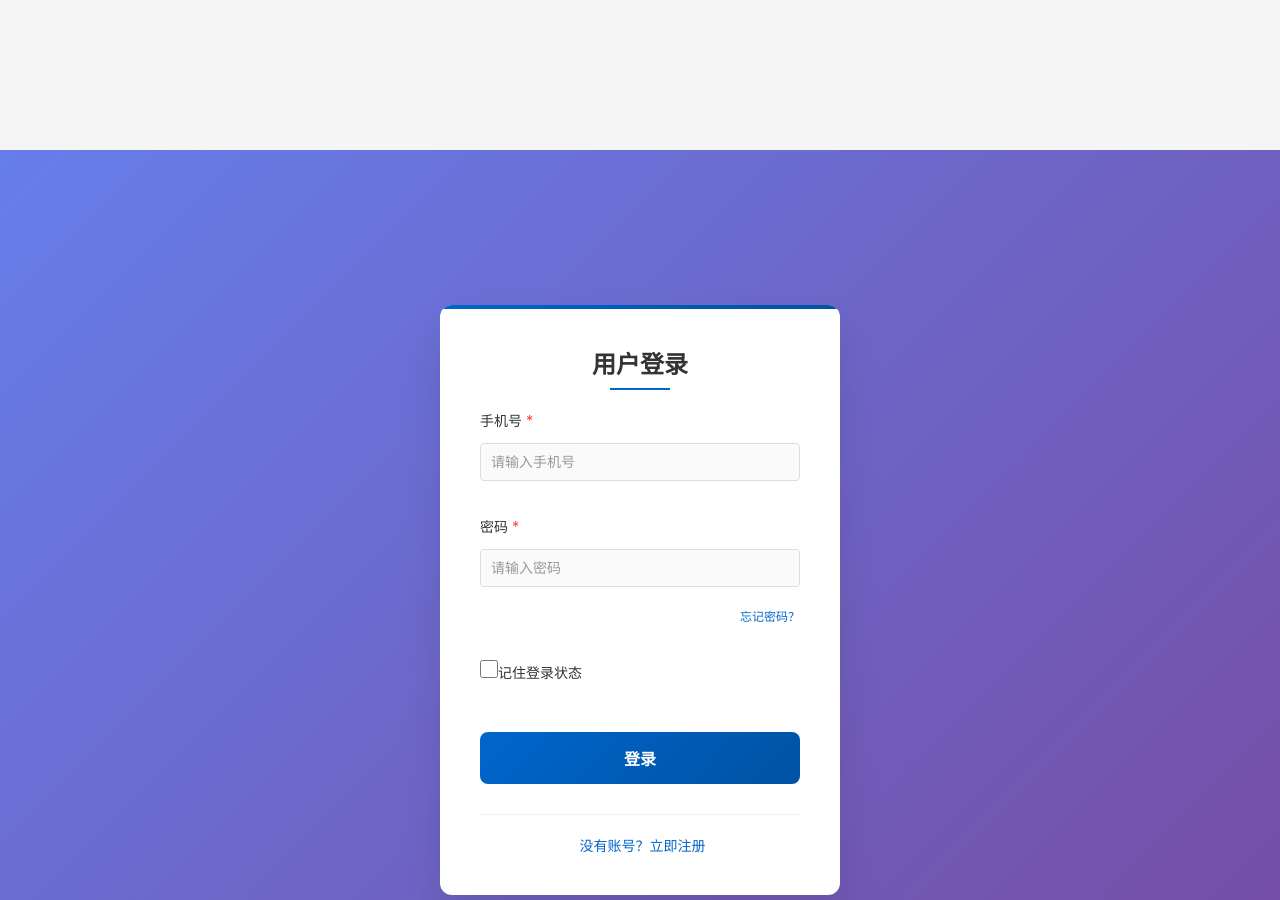
Test: LoginPage Component › 应该验证密码不能为空
# 只输入手机号，不输入密码
Type "13800138000" into the field labelled "手机号".
click(640, 462); type("13800138000")  # box [480,443,800,481]
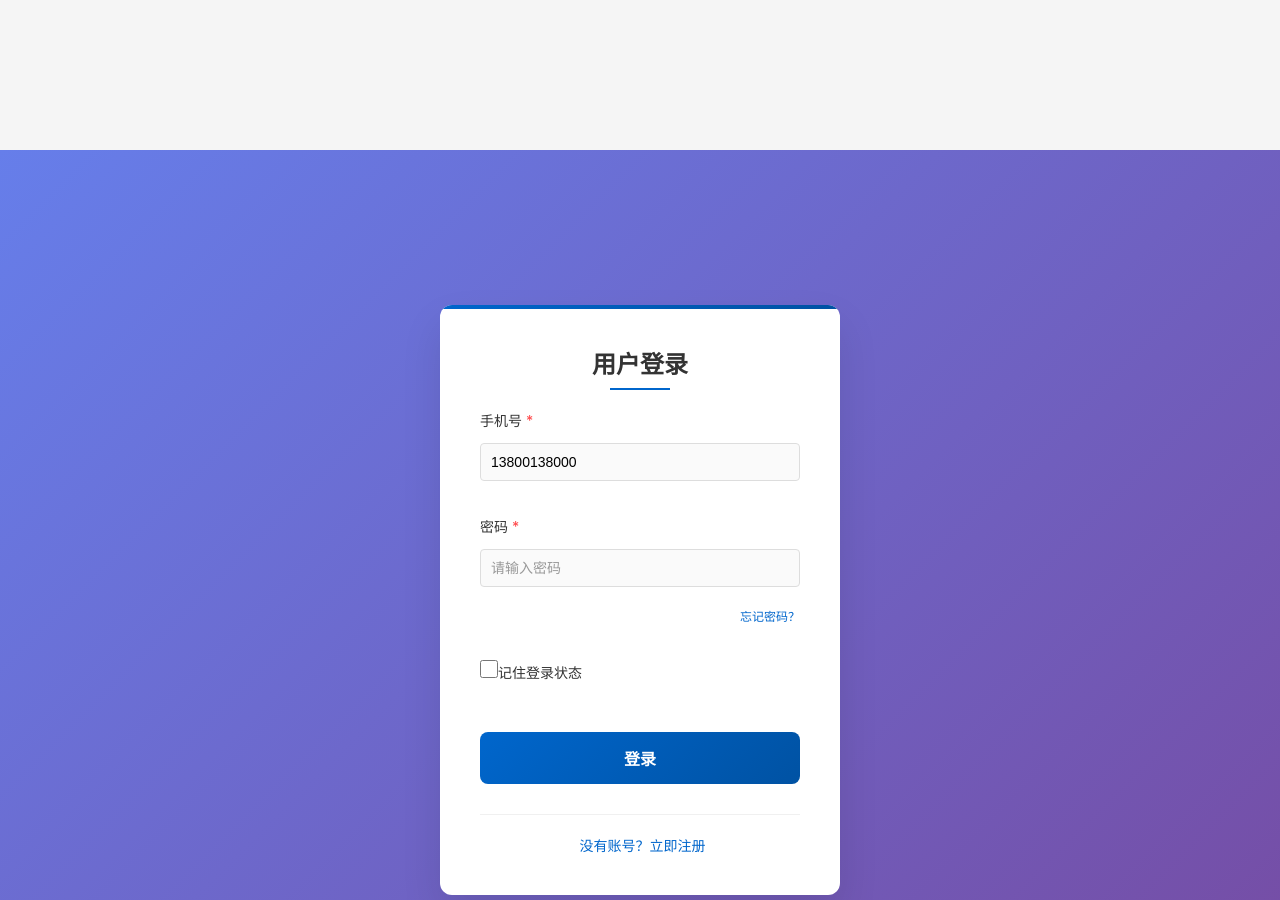
Click the button "登录".
click(640, 758)  # box [480,732,800,784]
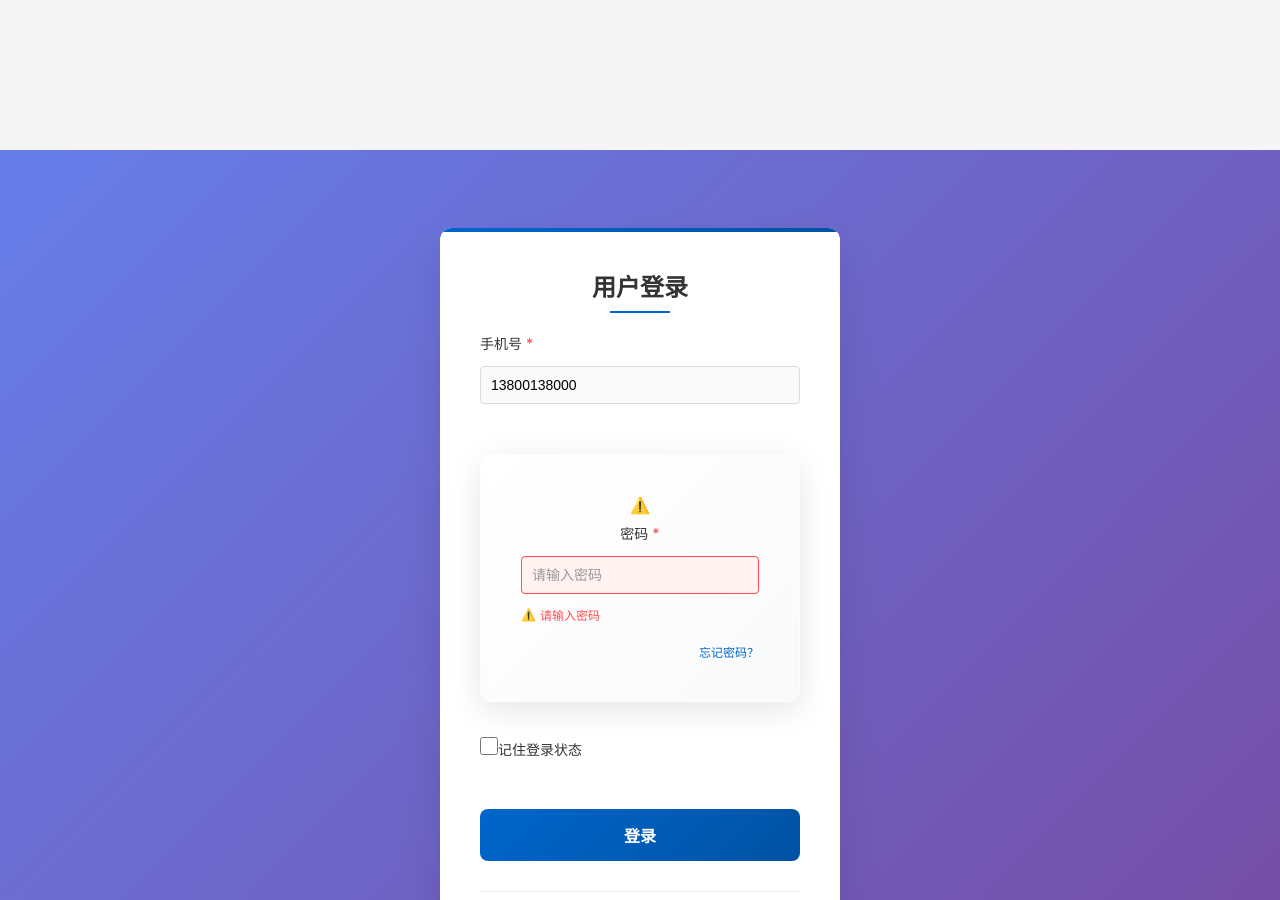
Expected: the text "请输入密码" is shown, [540,608,600,623]
